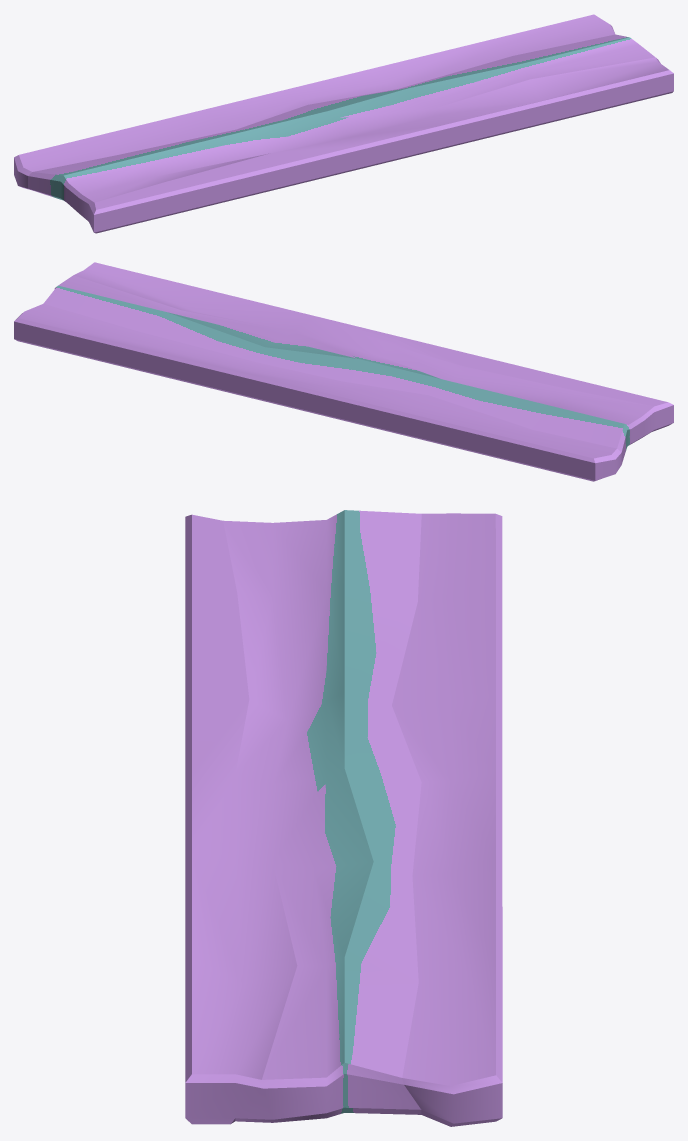
File: SM_WoodPlank1.fbx
3 renders of one model, top to bottom at view 1: azimuth 30°, elevation 25°; view 2: azimuth 150°, elevation 25°; view 3: azimuth 270°, elevation 25°, orthographic. The views are drawn at different scales.
Parts seen in each view (by area): view 1: SM_WoodPlank4; view 2: SM_WoodPlank4; view 3: SM_WoodPlank4.
Boxes of the visible parts, x1=… form: SM_WoodPlank4: x1=14, y1=14, x2=673, y2=233; SM_WoodPlank4: x1=14, y1=262, x2=673, y2=481; SM_WoodPlank4: x1=185, y1=510, x2=502, y2=1126.
Size of the model in its own units: 188 by 8.69 by 43.48.
